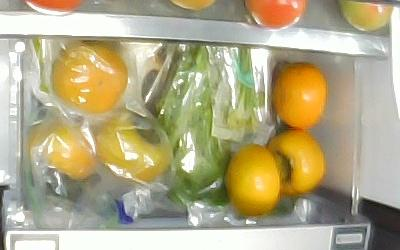persimmon: (225, 145, 281, 216), (266, 129, 325, 195), (271, 62, 328, 129)
persimmon_vinyl: (50, 42, 129, 115), (96, 115, 170, 185), (30, 120, 101, 191)
